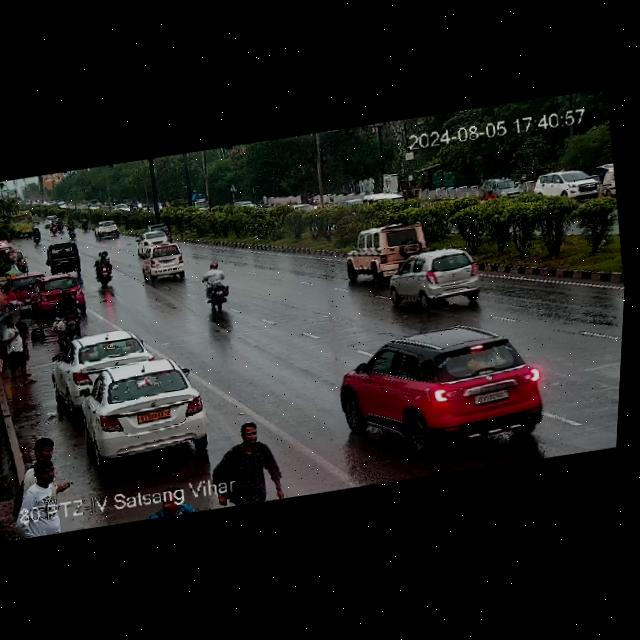bus: (10, 209, 36, 236)
car: (327, 315, 559, 458), (59, 354, 215, 470), (51, 327, 155, 397), (387, 244, 491, 311), (343, 221, 435, 283), (531, 165, 604, 206), (140, 242, 191, 285), (32, 274, 87, 311), (41, 240, 87, 276), (4, 264, 49, 300), (494, 174, 523, 201), (137, 227, 176, 247), (94, 220, 122, 240)
motorcycle: (192, 262, 240, 315), (47, 287, 88, 339), (92, 248, 122, 288), (29, 225, 44, 246), (66, 216, 78, 239), (48, 219, 59, 238), (80, 215, 90, 231), (56, 215, 65, 230), (483, 188, 496, 198)
person: (211, 420, 282, 507), (16, 462, 73, 513), (0, 310, 36, 388), (20, 435, 63, 475)
